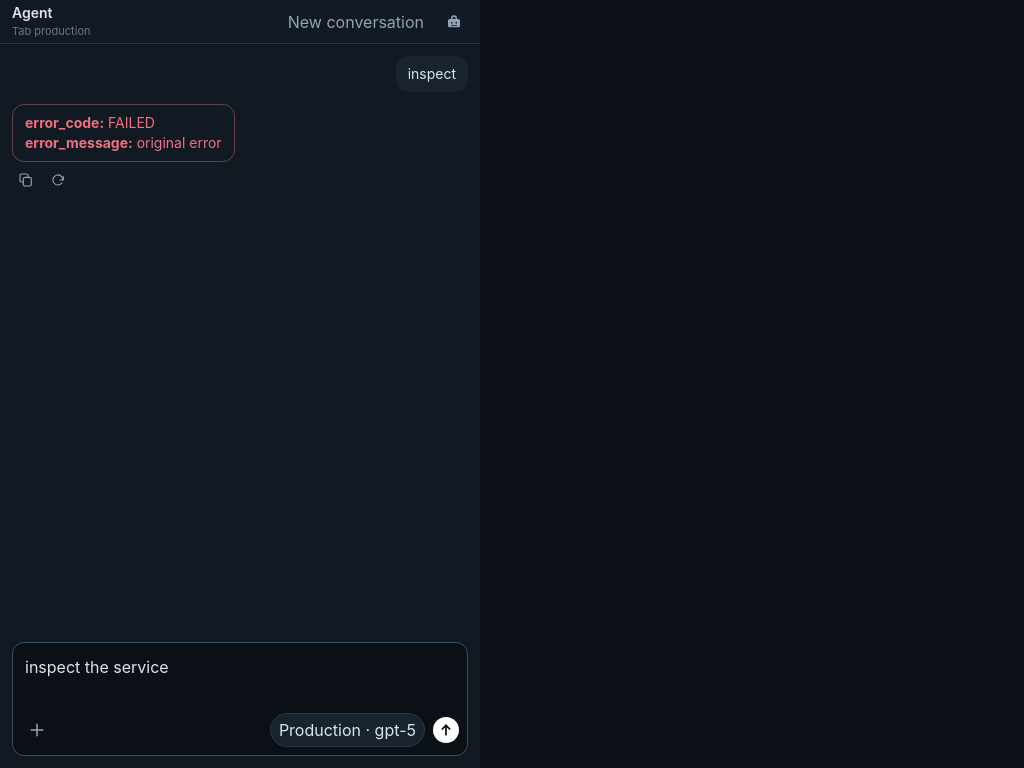
it: AgentWorkspace › keeps the reply when retry confirmation is dismissed with cancel
Click the button named "Retry": click(58, 180) [44,166,72,194]
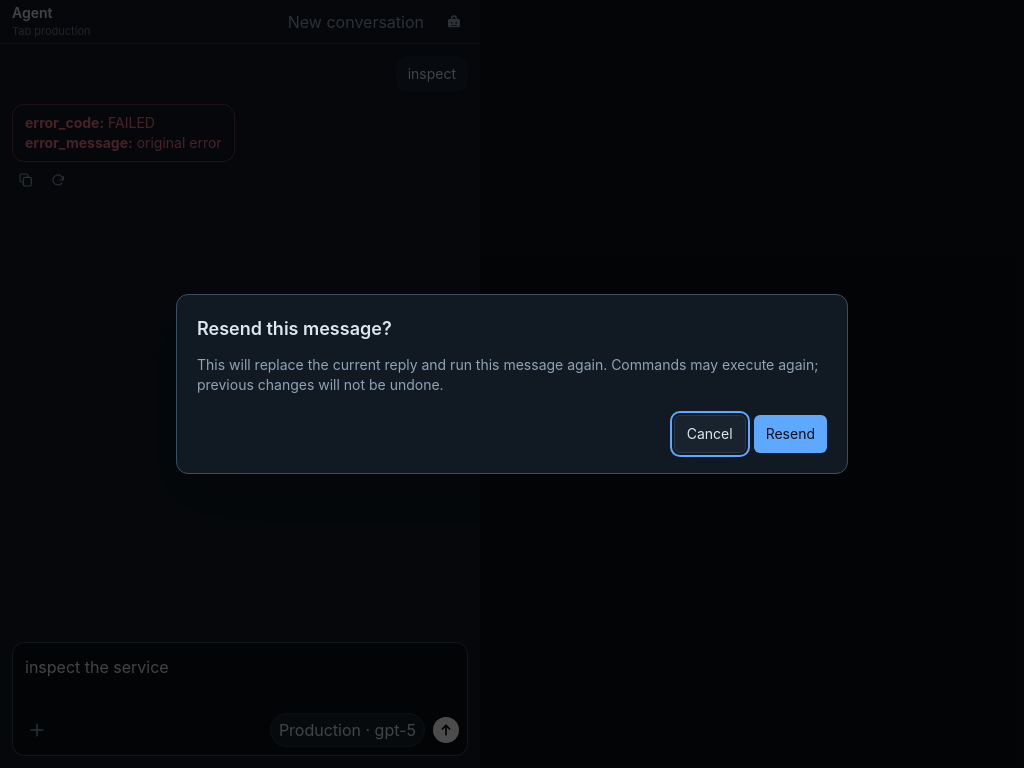
Check: the dialog is shown, box [176,294,848,474]
Click the button "Cancel": click(710, 434) [674,415,746,453]
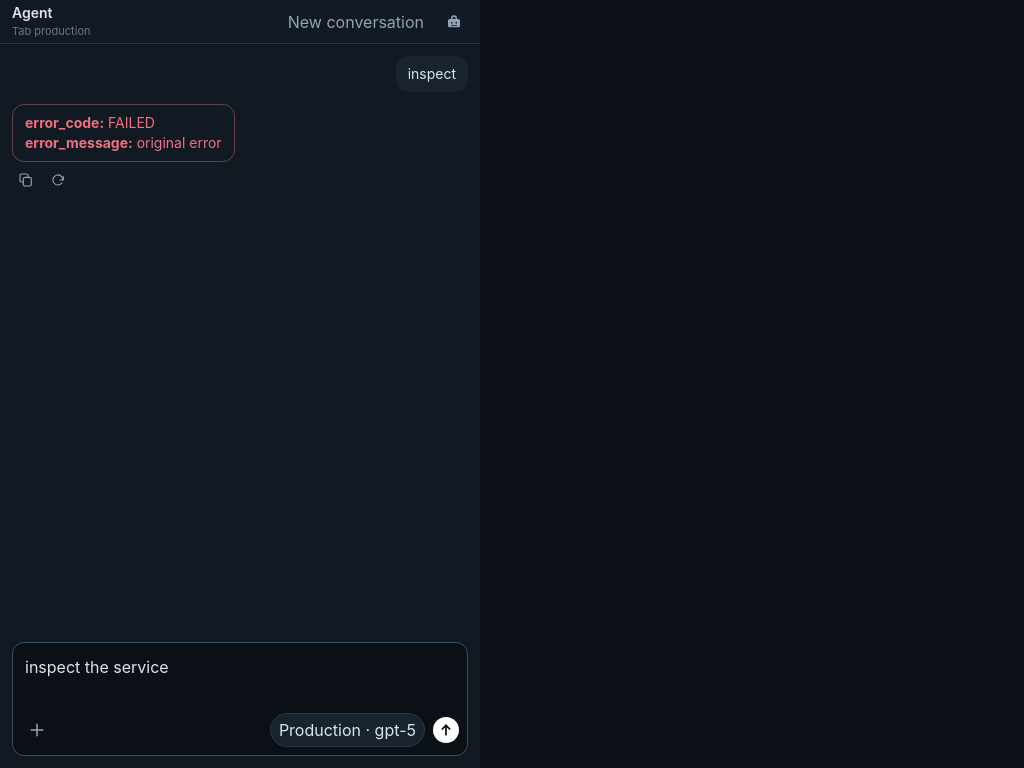
Check: the text "error_message: original error" is shown, box [25,133,222,153]
Check: the dialog is gone
